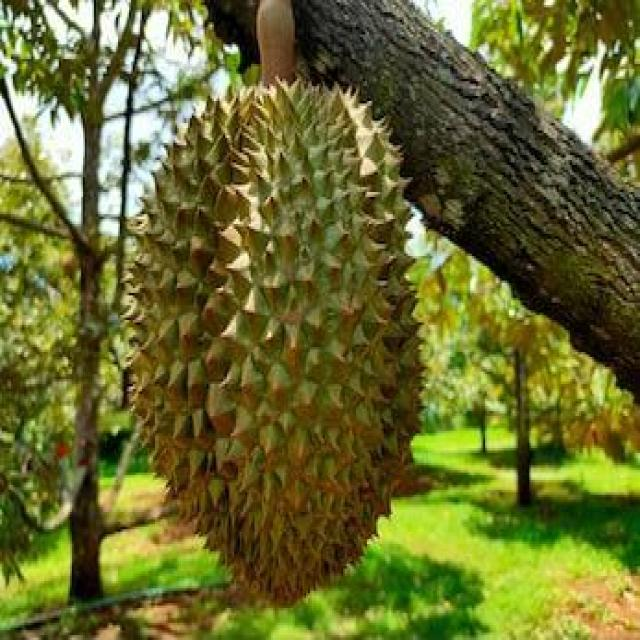mature: (122, 84, 426, 610)
